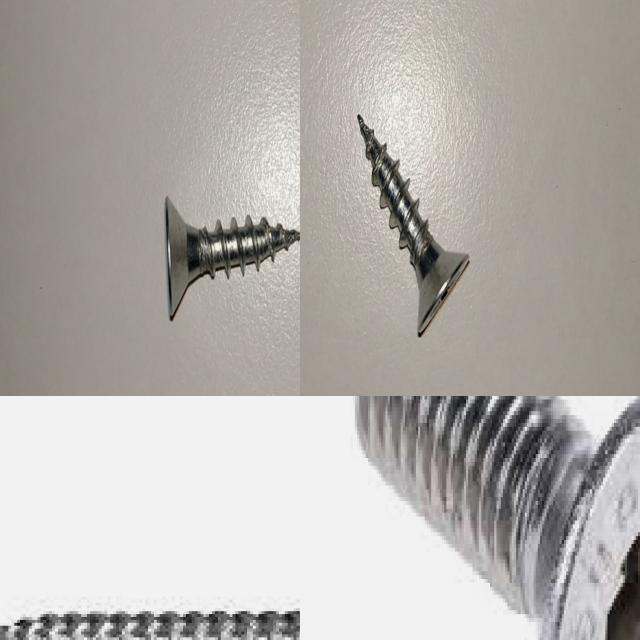Screw: (359, 396, 640, 640), (357, 113, 469, 336), (164, 196, 300, 319), (0, 614, 300, 640)
